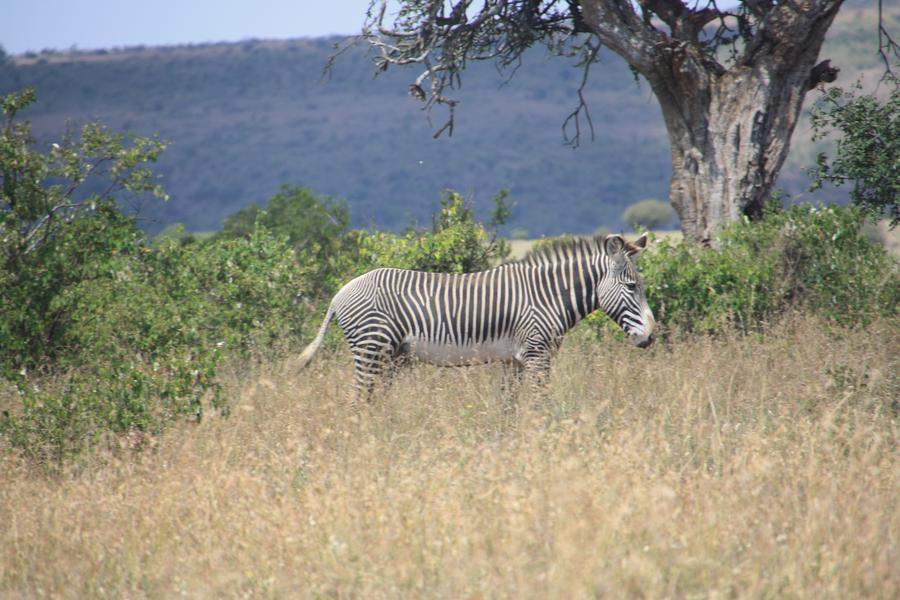zebra_grevys: (325, 269, 556, 350)
